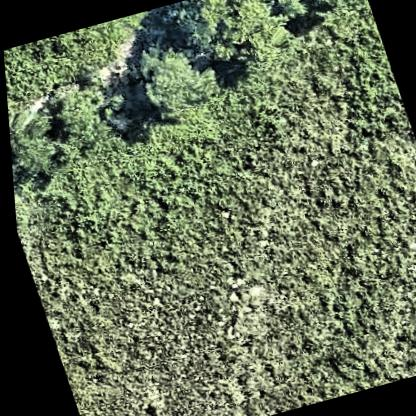tree-top: (122, 30, 217, 118), (175, 0, 292, 71), (37, 80, 107, 143), (7, 119, 51, 189), (291, 0, 364, 16)
